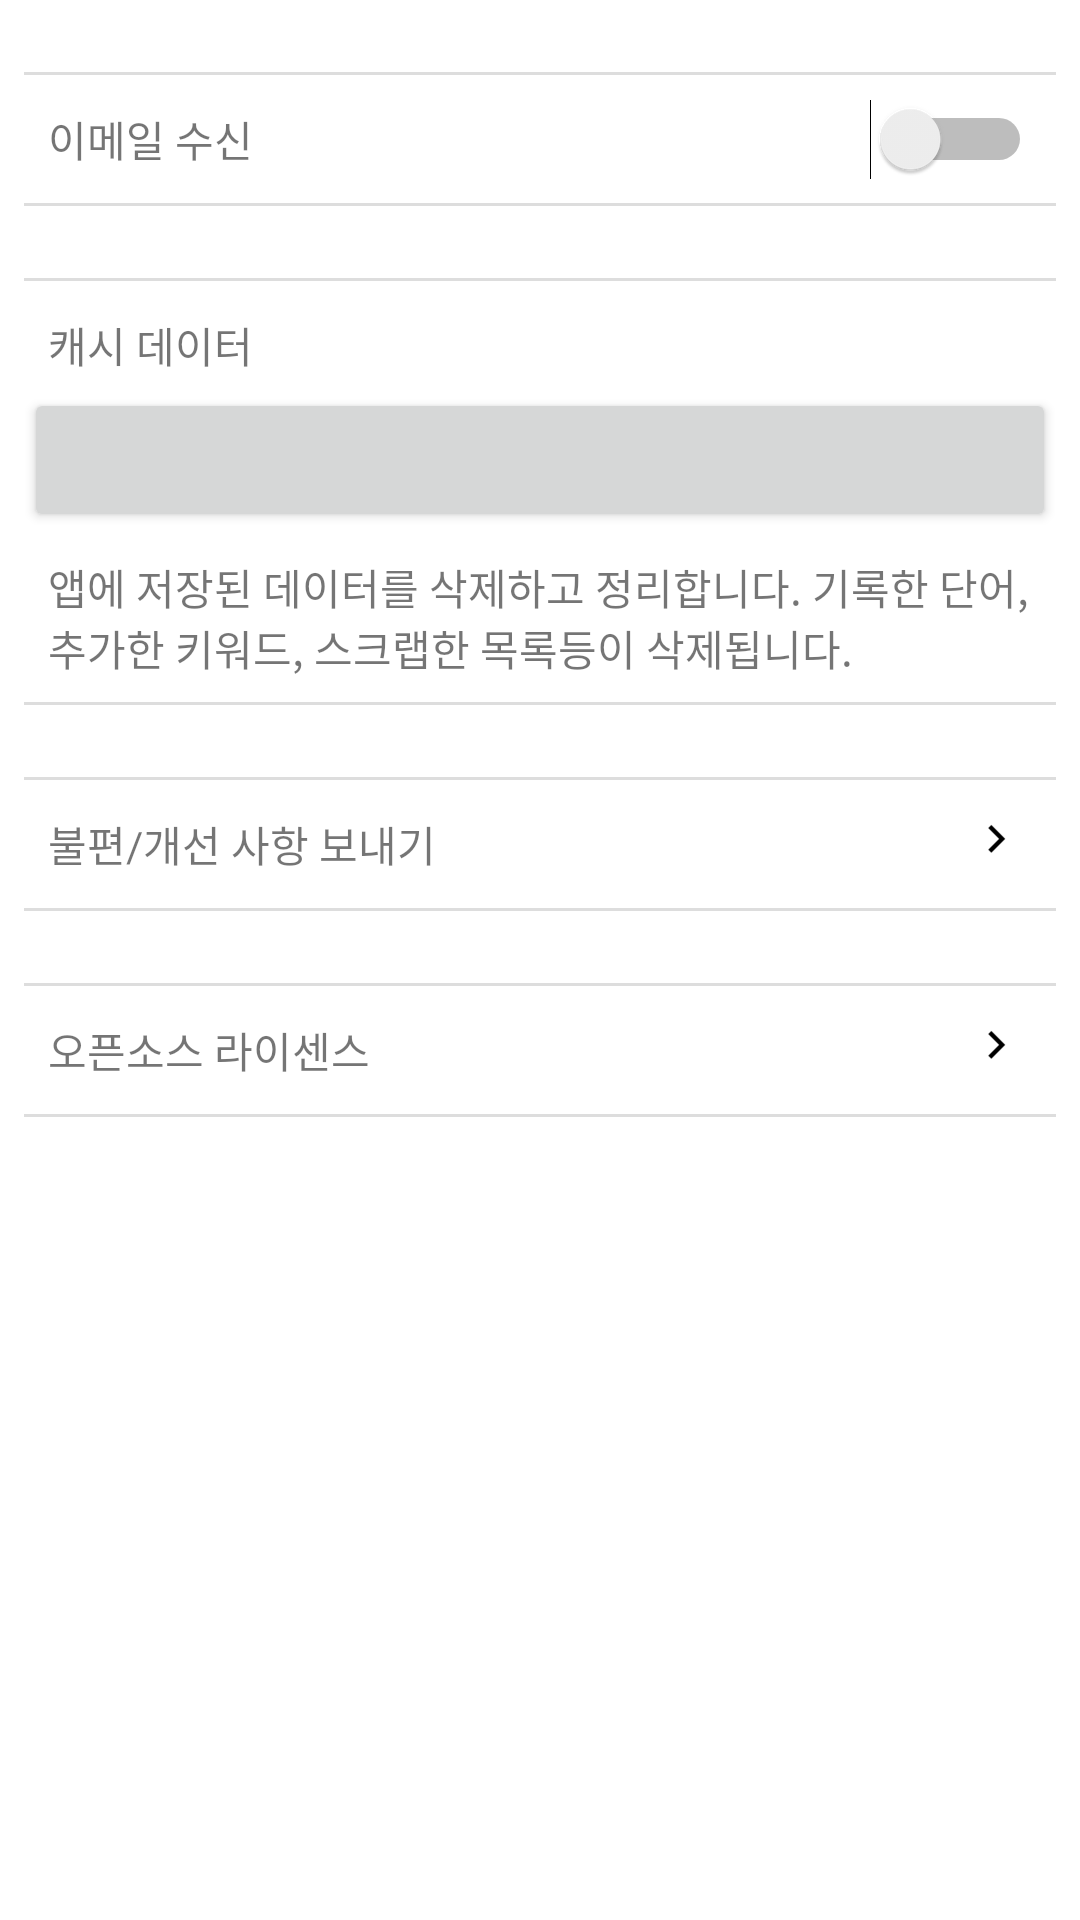

Where icons sit on this 1080px x 1920px app screen, as box=[x1, y1, x2, y2]:
arrow right: box=[988, 825, 1005, 853], box=[988, 1031, 1005, 1059]
